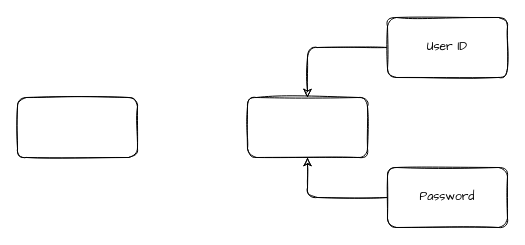
Some shapes in this 525 by 245 pixel diagram are drawn without their labels. The box of each missing label's shape, as (x1, y1, x2, y2) in pixels:
Token: (16, 96, 138, 158)
User Info: (246, 96, 368, 158)
